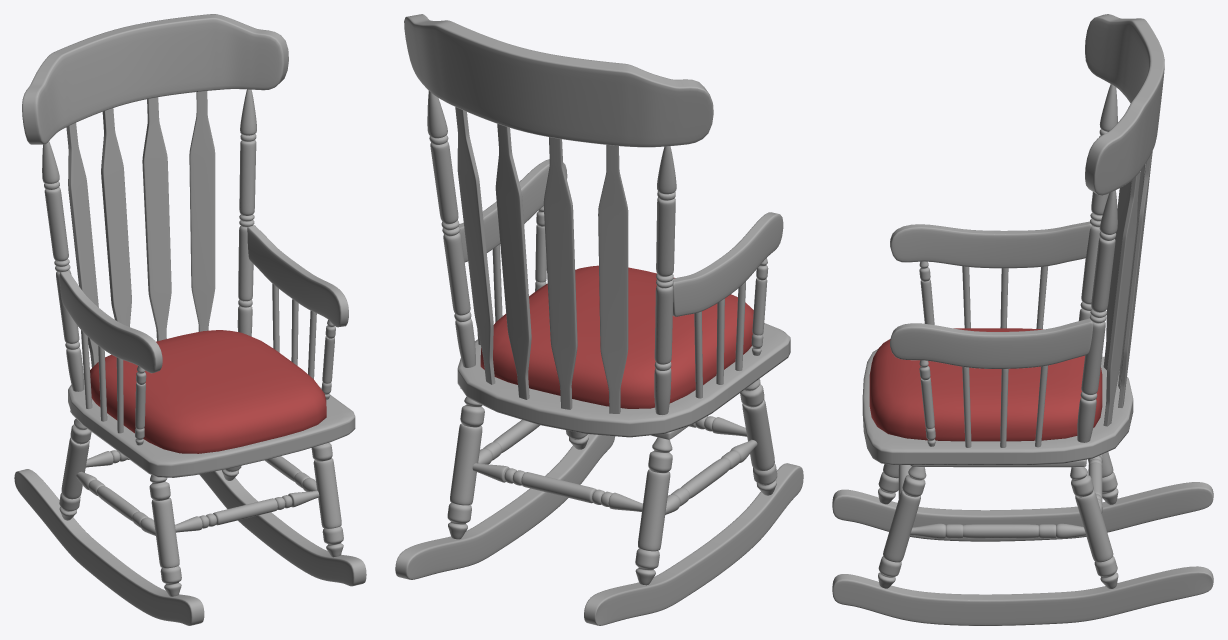
The model's file is CPA_mecedora.fbx.
3 views of the same model, side by side, from view 1: azimuth 30°, elevation 25°; view 2: azimuth 150°, elevation 25°; view 3: azimuth 270°, elevation 25° (orthographic). The views are drawn at different scales.
Parts seen in each view (by area): view 1: estructura, cogín; view 2: estructura, cogín; view 3: estructura, cogín.
Part boxes in pixels (box(x1,y1,x2,y2)): estructura: box(14, 14, 366, 625); cogín: box(90, 330, 326, 453); estructura: box(395, 14, 803, 625); cogín: box(480, 265, 753, 408); estructura: box(832, 14, 1213, 625); cogín: box(869, 328, 1102, 441).
Bounding box in the file's own units: 78.51 × 138 × 91.4.
